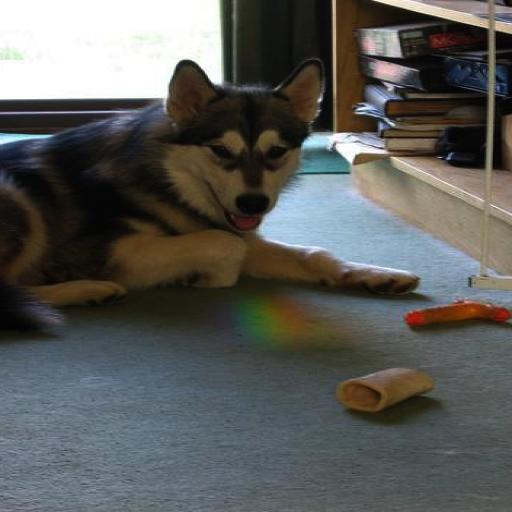dog_face: (160, 51, 329, 240)
